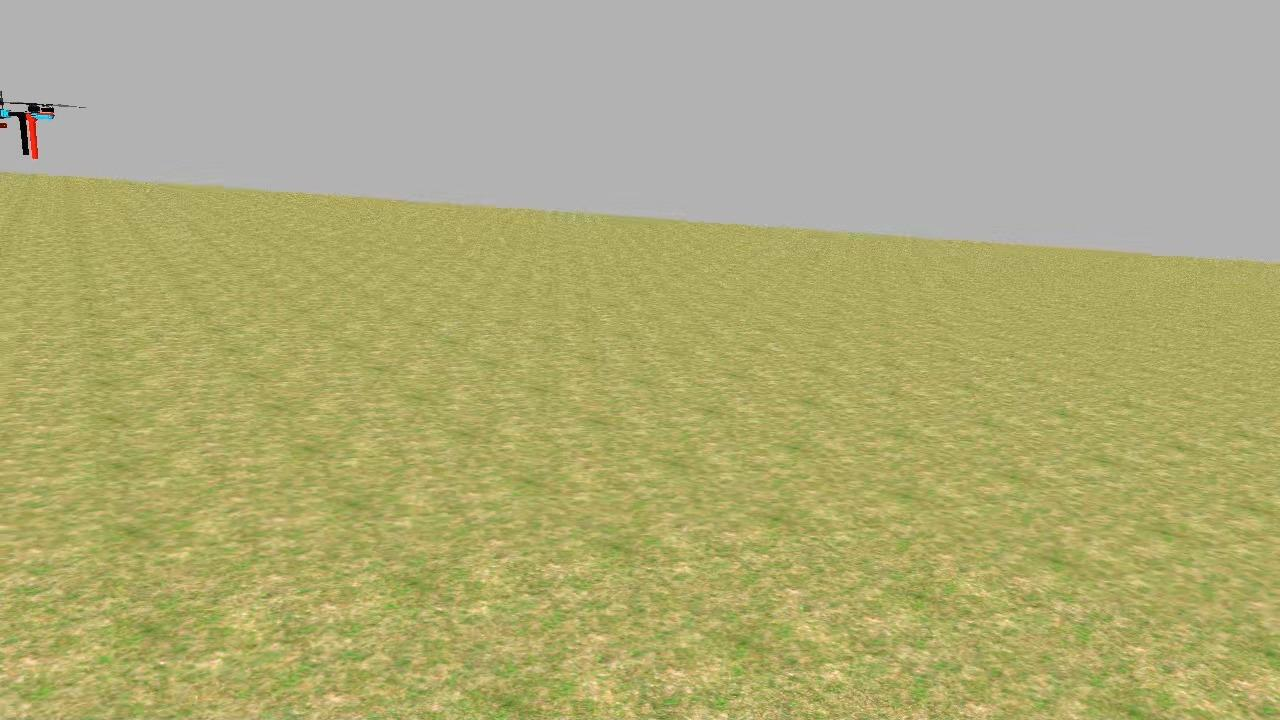UAV: (0, 91, 72, 171)
